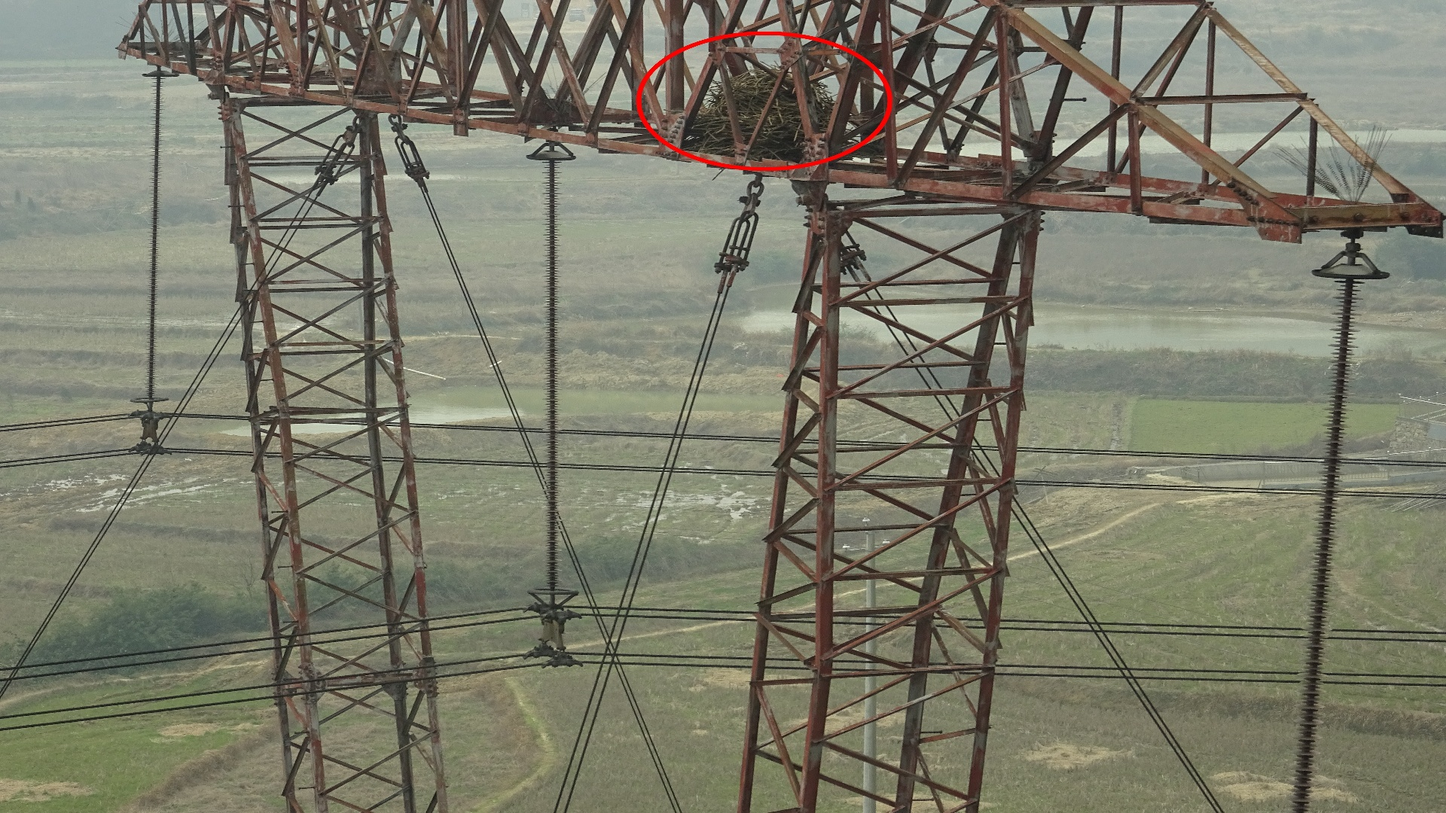insulator: (1283, 276, 1371, 813), (535, 160, 572, 591), (140, 72, 169, 400)
